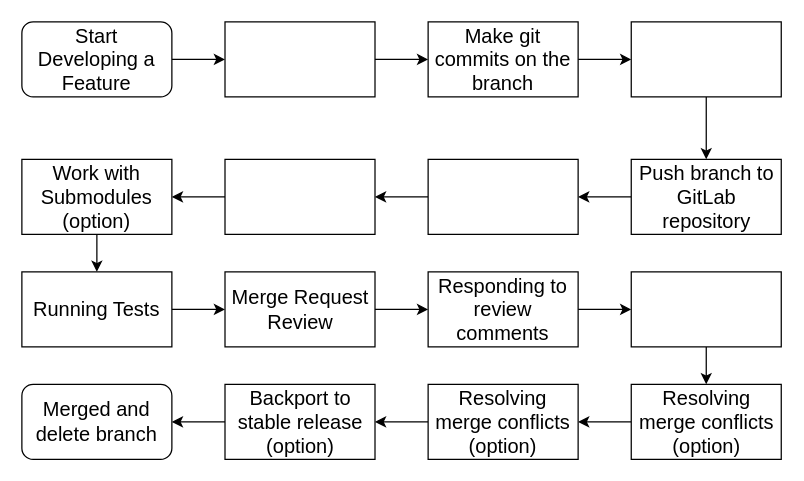
This 804x481 diagram has some shape labels left out. The shapes that lost their labels are listed below. From the top down, each one's centre as x and y in pixels, then its label:
At pixel 299 59: "Make a feature branch".
At pixel 705 59: "Finish your branch".
At pixel 299 196: "Coordinating MR with other projects (option)".
At pixel 502 196: "New Merge Request".
At pixel 705 309: "Updating the Merge Request".
